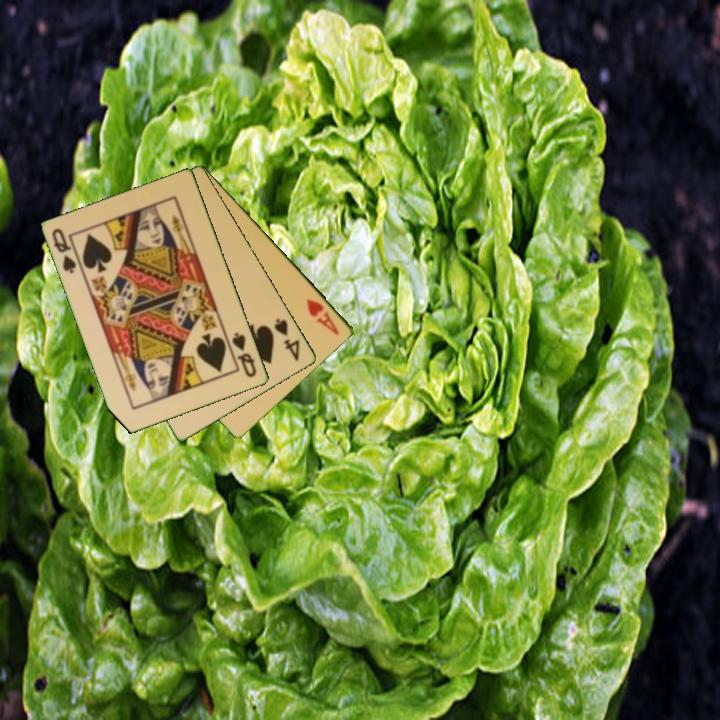4s: (271, 315, 303, 364)
Ah: (303, 295, 343, 338)
Qs: (49, 225, 85, 276), (229, 328, 260, 380)
